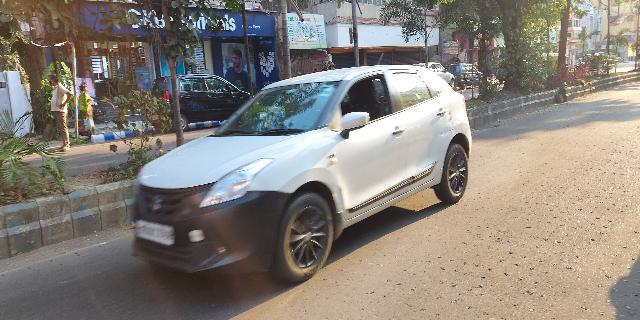Car: (124, 60, 478, 287)
